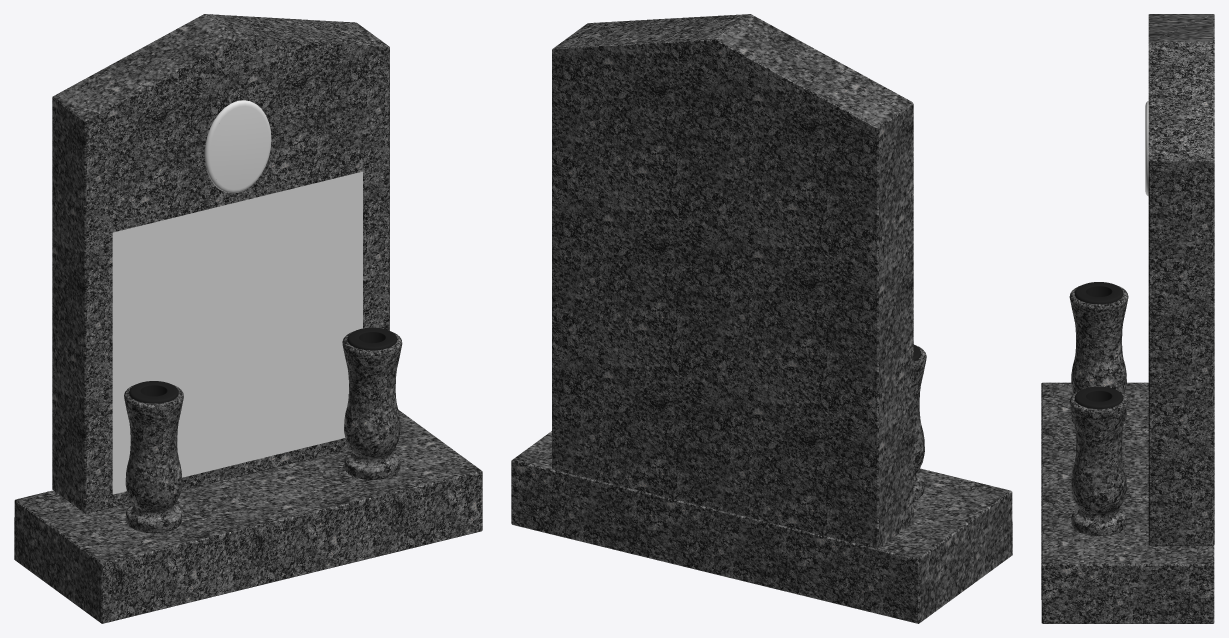
The model's file is Gravestone 1.glb.
3 renders of one model, left to right at view 1: azimuth 30°, elevation 25°; view 2: azimuth 150°, elevation 25°; view 3: azimuth 270°, elevation 25°, orthographic. The views are drawn at different scales.
Parts seen in each view (by area): view 1: Gravestone 1, Txt Plane 1, Vase 1, Photo Plaque; view 2: Gravestone 1, Vase 1; view 3: Gravestone 1, Vase 1, Photo Plaque.
Part boxes in pixels (x1,y1,x2,y2): Gravestone 1: (14, 14, 482, 623); Txt Plane 1: (112, 171, 362, 494); Vase 1: (124, 327, 402, 533); Photo Plaque: (204, 100, 271, 193); Gravestone 1: (511, 14, 1012, 623); Vase 1: (913, 344, 926, 500); Gravestone 1: (1041, 14, 1214, 623); Vase 1: (1069, 282, 1128, 536); Photo Plaque: (1145, 101, 1148, 196).
Bounding box in the file's own units: 0.762 × 0.9534 × 0.305.
Materials: 4 (1 with a texture image).
